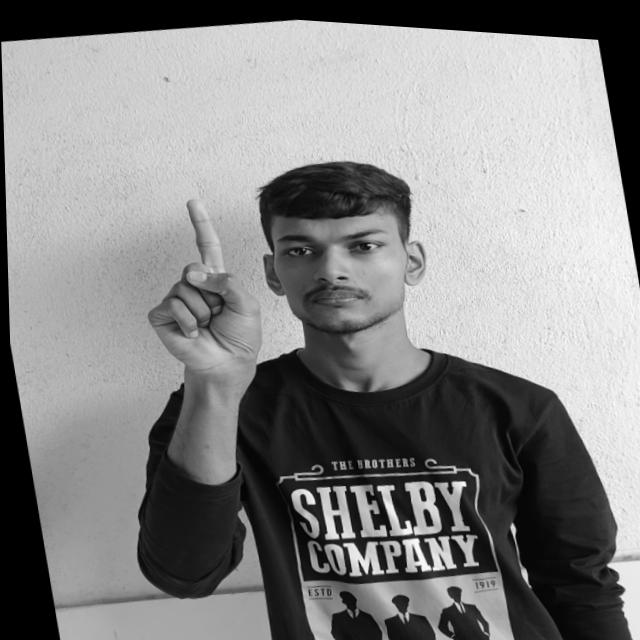Question: (126, 183, 272, 389)
